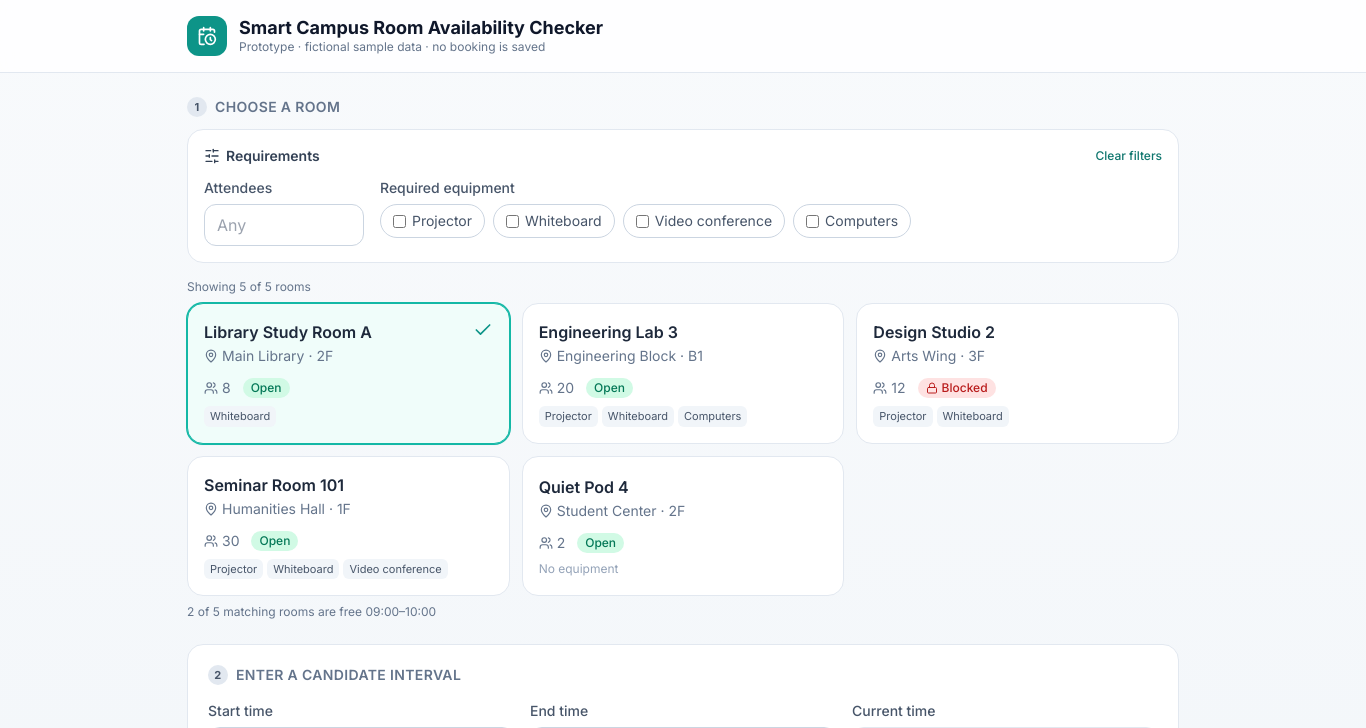
Test: UI integration (React + jsdom) › shows a clear empty state and can clear the filters (F4)
Later steps or results of the test are not shown.
Type "500" into the number field labelled "Attendees". click: (284, 225)
box: [204,204,364,246]
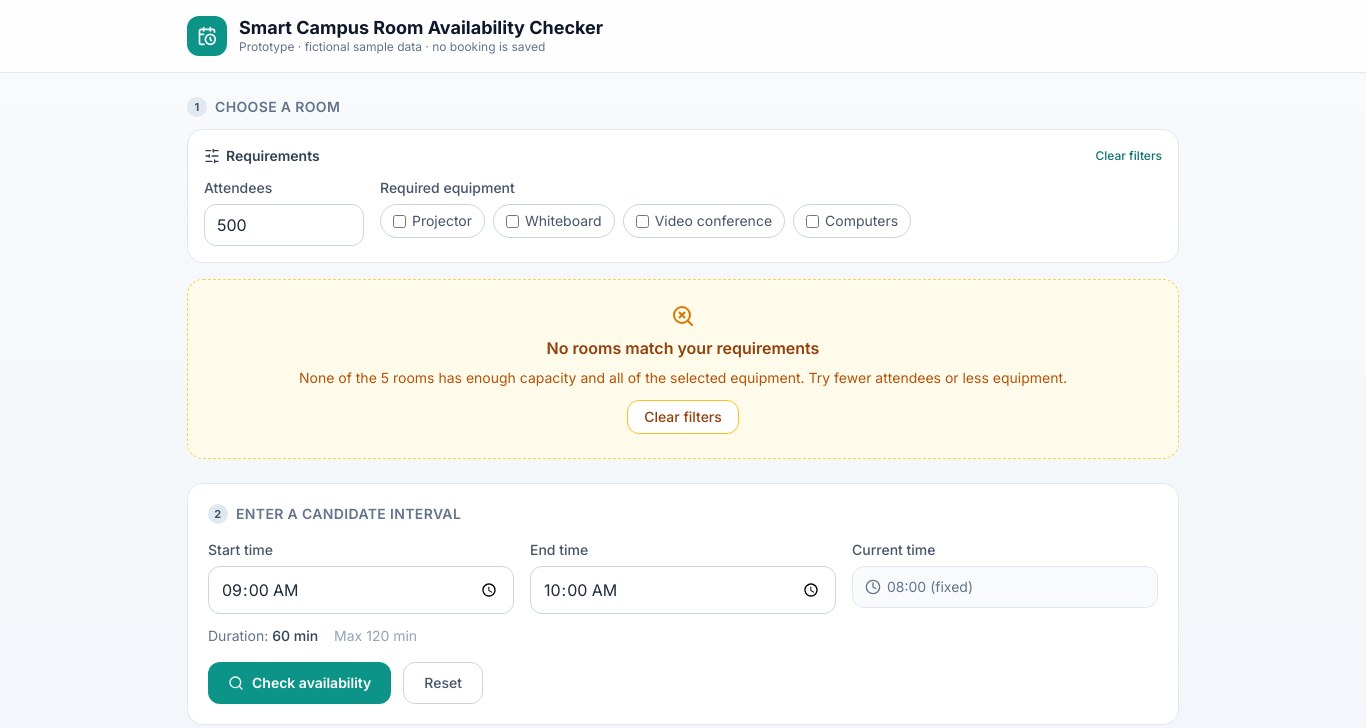
Check: the message with test id "empty-state" shows "No rooms match your requirements", box [547,338,819,358]
